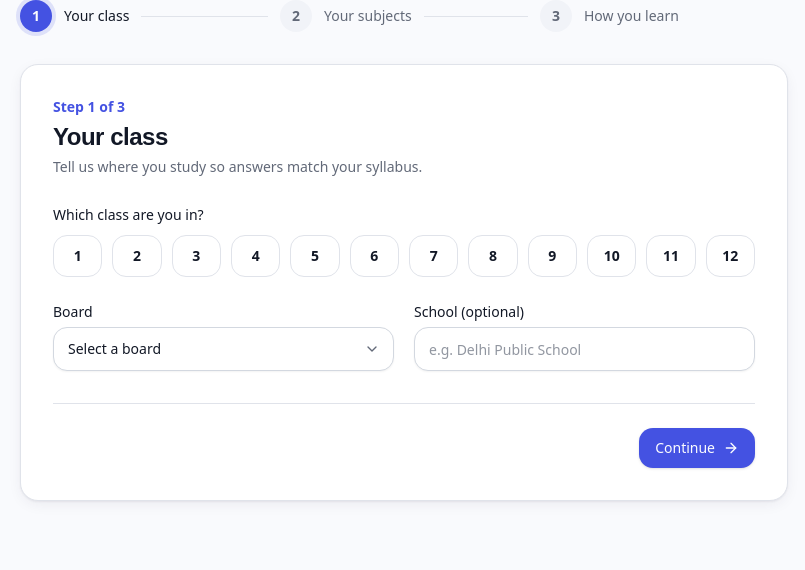
Test: OnboardingWizard › validates each step before moving on
The image size is (805, 570).
Click the button "Continue" at (697, 448), box [639,428,755,468]
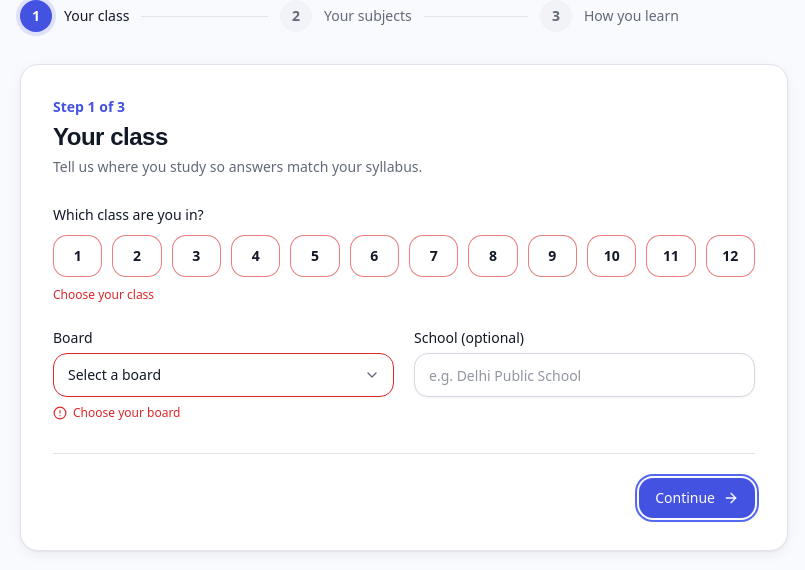
Expected: the text "Step 1 of 3" is shown, [53,97,125,116]
Result: the text "Choose your class" is shown at [53,286,154,303]
Result: the text "Choose your board" is shown at [53,404,180,421]
